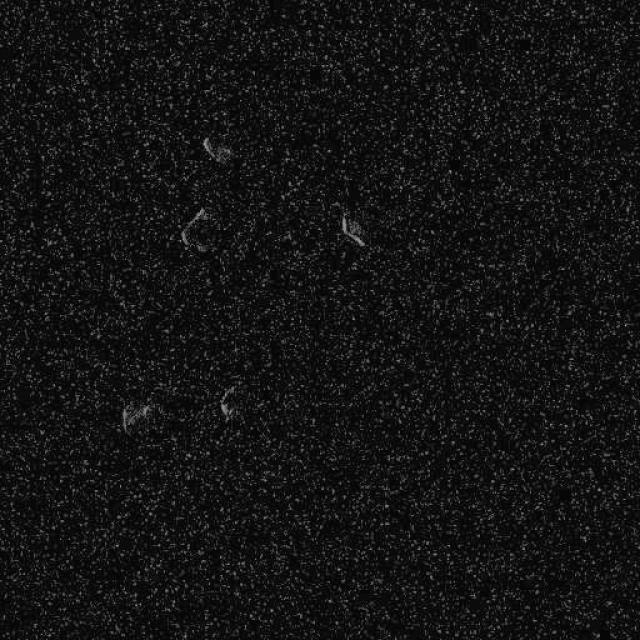D2: (178, 205, 214, 254), (338, 212, 368, 248), (218, 382, 244, 422), (200, 135, 234, 165), (120, 402, 151, 432)
